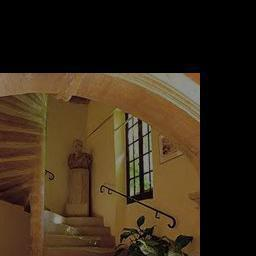Escaleras: (38, 92, 197, 256)
Matera: (141, 232, 195, 256), (123, 222, 161, 256)
Otro Obstaculo: (68, 135, 94, 215)
